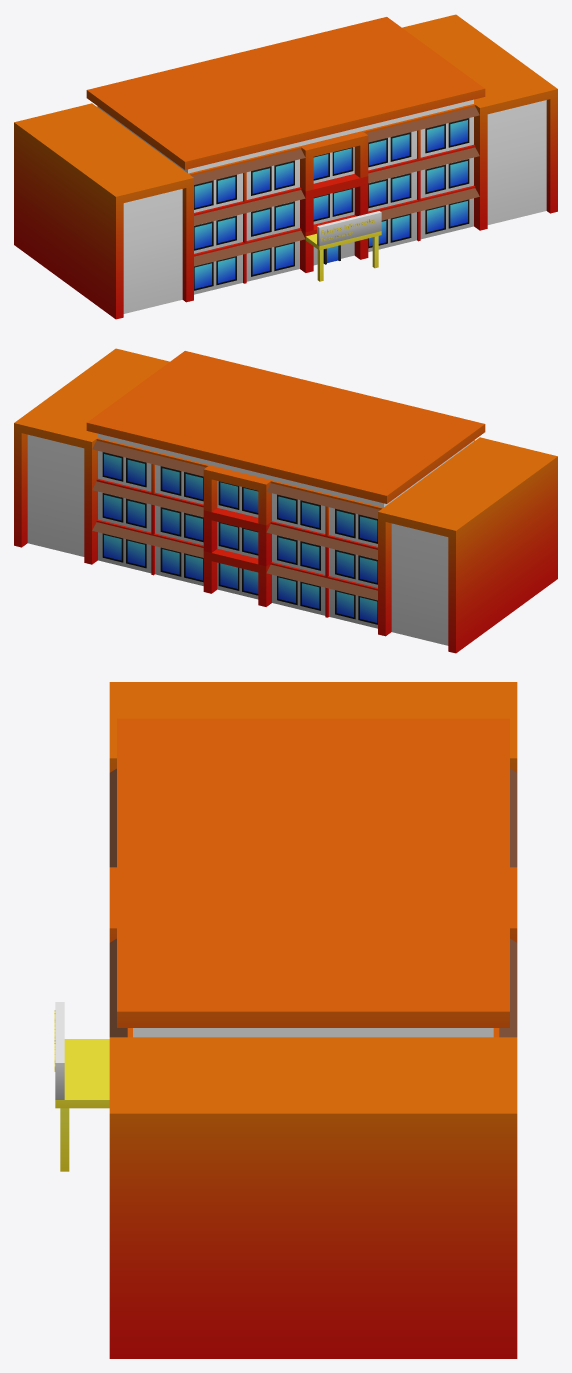
Rendered from Gedung PUTI_Informatika.fbx.
The picture shows the model from 3 angles, top to bottom: view 1: azimuth 30°, elevation 25°; view 2: azimuth 150°, elevation 25°; view 3: azimuth 270°, elevation 25°; orthographic projection. The views are drawn at different scales.
Parts seen in each view (by area): view 1: Gedung Puti; view 2: Gedung Puti; view 3: Gedung Puti.
Part boxes in pixels (<box>): Gedung Puti: <box>14,14,557,319</box>; Gedung Puti: <box>14,348,557,653</box>; Gedung Puti: <box>54,682,517,1358</box>.
Size of the model in its own units: 5660 by 1700 by 2564.
1 material, 1 textured.
